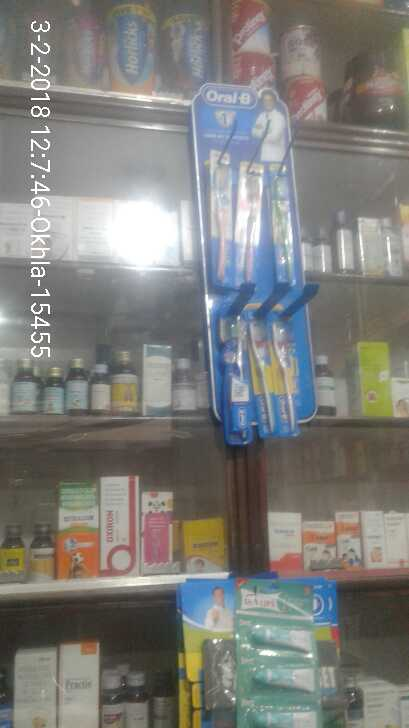oralb: (274, 316, 313, 442), (233, 147, 261, 293), (221, 304, 251, 439), (248, 319, 278, 439), (204, 157, 230, 282)
